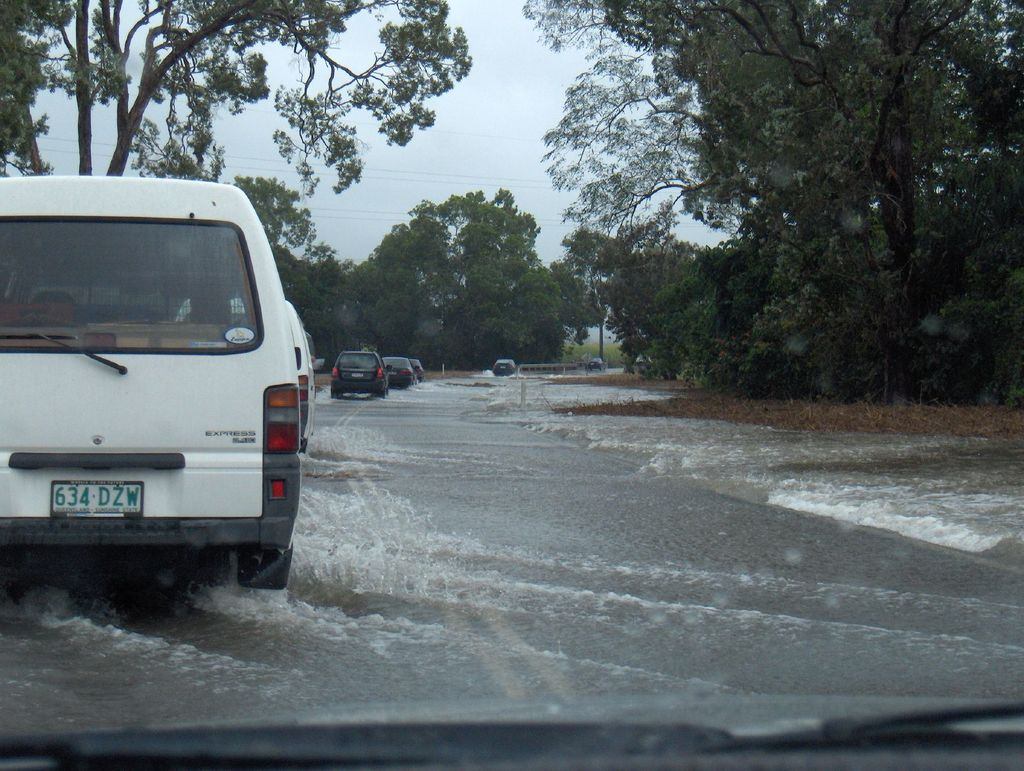Car: (0, 171, 302, 589), (329, 347, 391, 398), (382, 356, 421, 390), (492, 361, 517, 374), (583, 358, 604, 368), (414, 356, 421, 383)
